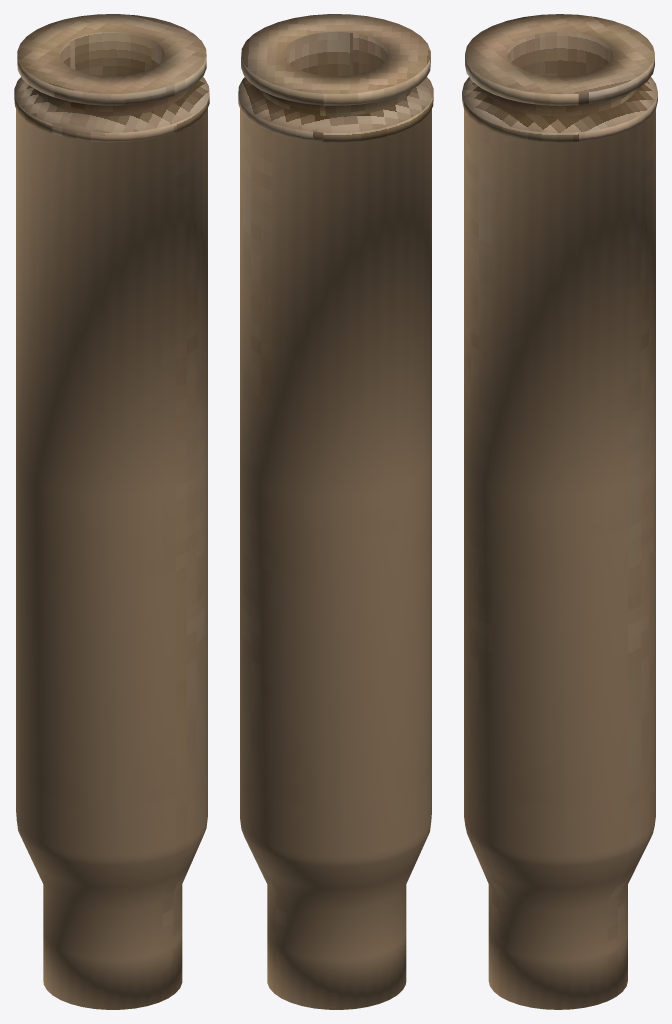
File: casing_sniper.glb
3 renders of one model, left to right at view 1: azimuth 30°, elevation 25°; view 2: azimuth 150°, elevation 25°; view 3: azimuth 270°, elevation 25°, orthographic.
Parts seen in each view (by area): view 1: Cylinder_Material_Capsula_0; view 2: Cylinder_Material_Capsula_0; view 3: Cylinder_Material_Capsula_0.
Boxes of the visible parts, x1,y1,x2,y2 form: Cylinder_Material_Capsula_0: [14, 14, 209, 1009]; Cylinder_Material_Capsula_0: [238, 14, 433, 1009]; Cylinder_Material_Capsula_0: [462, 14, 657, 1009].
Bounding box in the file's own units: 0.0128 × 0.067 × 0.0128.
1 material, 1 textured.
